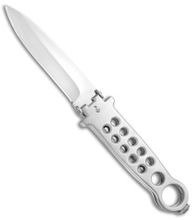knife: (2, 2, 194, 217)
